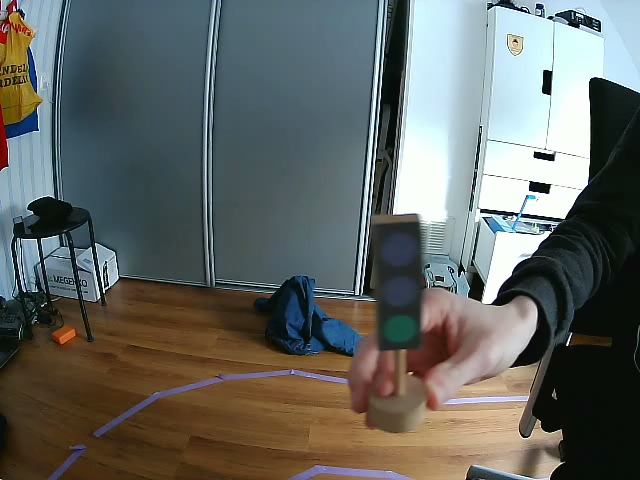groenlicht: (378, 220, 421, 349)
